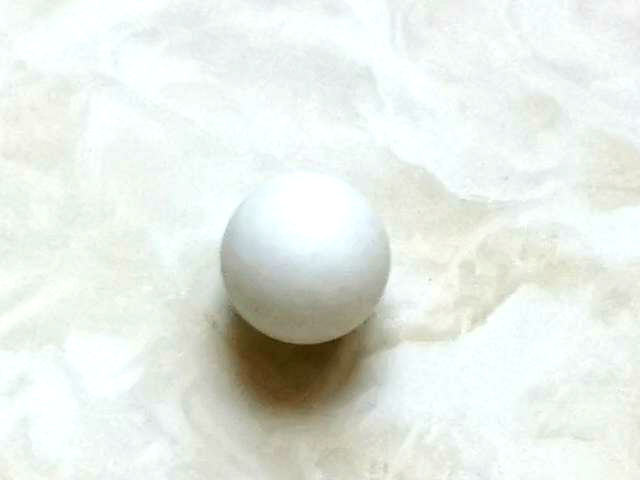ball: (222, 171, 390, 342)
